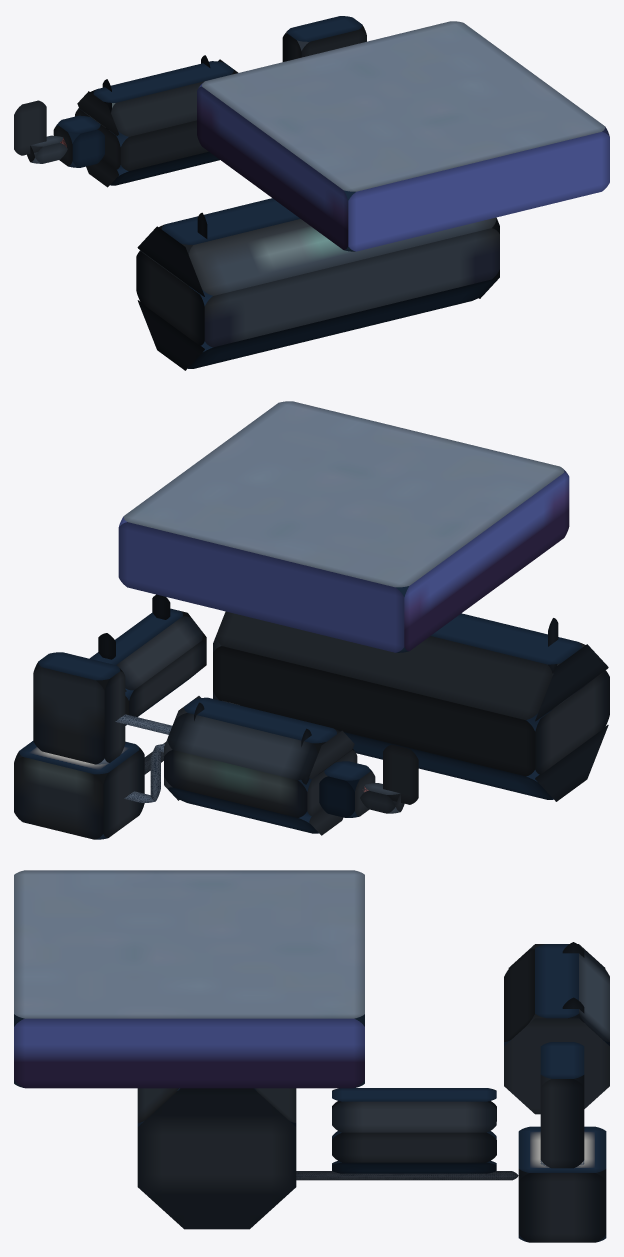
Rendered from m1_underbody_equipment_3.obj.
3 views of the same model, one above another, from view 1: azimuth 30°, elevation 25°; view 2: azimuth 150°, elevation 25°; view 3: azimuth 270°, elevation 25° (orthographic). The views are drawn at different scales.
Visible parts, largest first — view 1: part_a71dbf94b65652dea5e3b446cf0b66d7, part_61fc679c3befba18813337d7be951644, part_1b5e464ab5fb2406cfb66a1f9e3776c2, part_46ec7b80b1af49f0e8a7bc296a54c470, part_7addcfe2b8e807ec4000589b1248045d, part_1ea620fcabbd80c928dbd1476415a4a3, part_e19d6d65d51fe92b526e5d8daf7c0b6e; view 2: part_a71dbf94b65652dea5e3b446cf0b66d7, part_61fc679c3befba18813337d7be951644, part_1b5e464ab5fb2406cfb66a1f9e3776c2, part_8776add36fbd521db312bc184e2554fe, part_46ec7b80b1af49f0e8a7bc296a54c470, part_31a9bdb44df0c1bfb6eb7efa9992d085, part_7addcfe2b8e807ec4000589b1248045d, part_1ea620fcabbd80c928dbd1476415a4a3, part_e19d6d65d51fe92b526e5d8daf7c0b6e; view 3: part_a71dbf94b65652dea5e3b446cf0b66d7, part_61fc679c3befba18813337d7be951644, part_31a9bdb44df0c1bfb6eb7efa9992d085, part_1b5e464ab5fb2406cfb66a1f9e3776c2, part_8776add36fbd521db312bc184e2554fe, part_46ec7b80b1af49f0e8a7bc296a54c470, part_1debcaeb59b37af39503cf0e26212e0f.
Part boxes in pixels (box(x1,y1,x2,y2)): part_a71dbf94b65652dea5e3b446cf0b66d7: box(197, 21, 609, 251); part_61fc679c3befba18813337d7be951644: box(136, 198, 499, 370); part_1b5e464ab5fb2406cfb66a1f9e3776c2: box(75, 59, 238, 187); part_46ec7b80b1af49f0e8a7bc296a54c470: box(282, 16, 366, 61); part_7addcfe2b8e807ec4000589b1248045d: box(53, 115, 104, 167); part_1ea620fcabbd80c928dbd1476415a4a3: box(14, 100, 46, 155); part_e19d6d65d51fe92b526e5d8daf7c0b6e: box(27, 135, 67, 163); part_a71dbf94b65652dea5e3b446cf0b66d7: box(118, 401, 569, 652); part_61fc679c3befba18813337d7be951644: box(213, 611, 609, 801); part_1b5e464ab5fb2406cfb66a1f9e3776c2: box(164, 696, 357, 835); part_8776add36fbd521db312bc184e2554fe: box(14, 741, 144, 839); part_46ec7b80b1af49f0e8a7bc296a54c470: box(33, 652, 125, 764); part_31a9bdb44df0c1bfb6eb7efa9992d085: box(89, 608, 206, 725); part_7addcfe2b8e807ec4000589b1248045d: box(319, 761, 375, 817); part_1ea620fcabbd80c928dbd1476415a4a3: box(383, 744, 418, 804); part_e19d6d65d51fe92b526e5d8daf7c0b6e: box(360, 783, 404, 813); part_a71dbf94b65652dea5e3b446cf0b66d7: box(14, 870, 364, 1088); part_61fc679c3befba18813337d7be951644: box(137, 1088, 296, 1229); part_31a9bdb44df0c1bfb6eb7efa9992d085: box(332, 1088, 496, 1173); part_1b5e464ab5fb2406cfb66a1f9e3776c2: box(504, 944, 609, 1114); part_8776add36fbd521db312bc184e2554fe: box(518, 1126, 606, 1242); part_46ec7b80b1af49f0e8a7bc296a54c470: box(540, 1042, 584, 1168); part_1debcaeb59b37af39503cf0e26212e0f: box(296, 1171, 518, 1180).
Bounding box in the file's own units: 1.38 × 0.7629 × 1.7.
